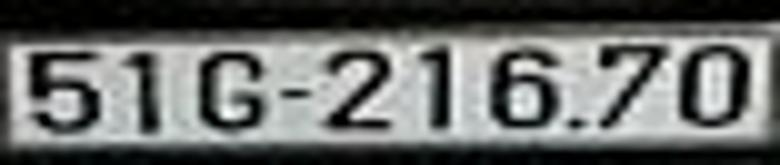-: (278, 87, 310, 99)
.: (570, 118, 582, 128)
0: (681, 44, 750, 126)
1: (419, 47, 452, 129), (127, 52, 157, 133)
2: (326, 50, 390, 127)
5: (29, 51, 96, 135)
6: (491, 46, 558, 129)
7: (600, 46, 661, 129)
G: (200, 52, 262, 129)
